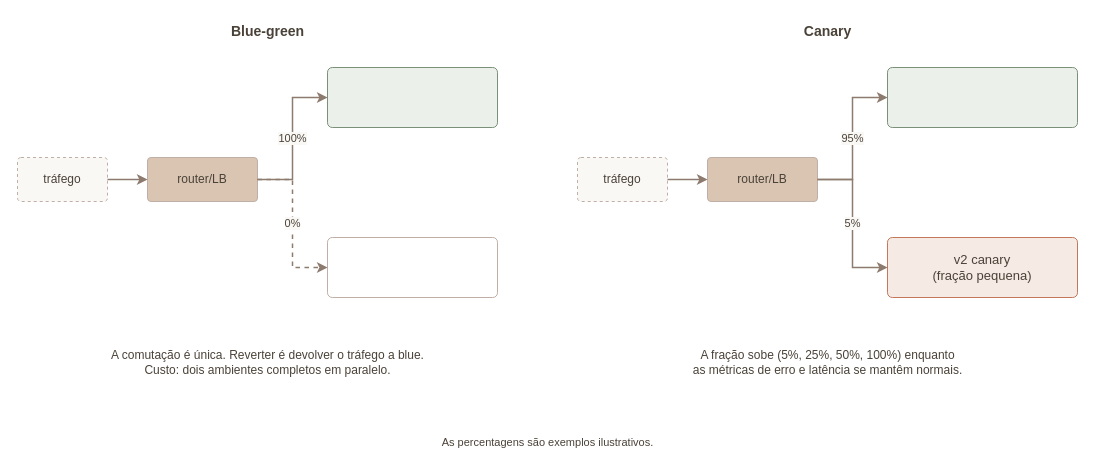
Image size: 1095x474. Some labels were removed from this diagram. The shapes that lost their labels are listed below. From the top down, each one's centre as x and y in pixels, then its label:
point (412, 97): Ambiente blue v1 (ativo)
point (982, 97): v1 (maioria)
point (412, 267): Ambiente green v2 (testado)
